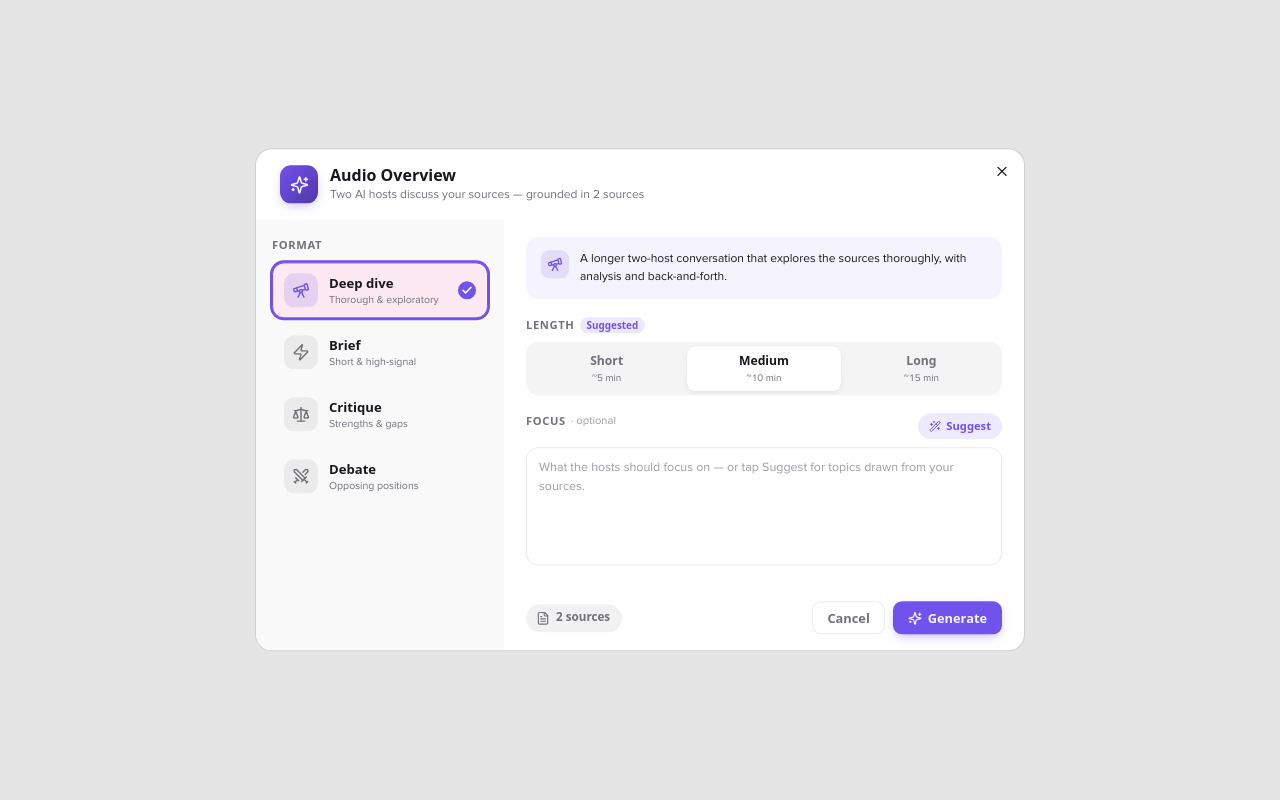
Scenario: AudioOverviewSetup — focus › surfaces an error when Suggest fails (never fails silently)
The width and height of the screenshot is (1280, 800).
Click the button "Suggest": (960, 426) [918,413,1002,439]
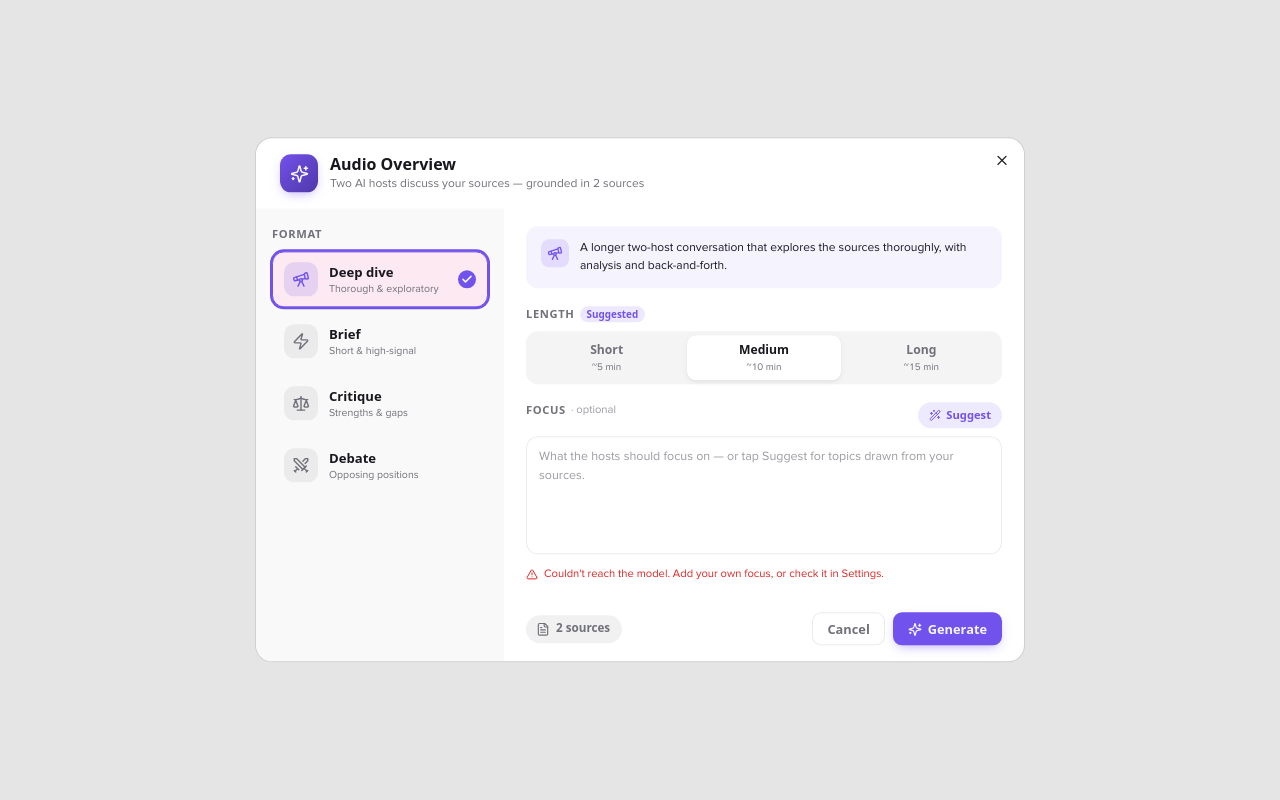
Expected: the message "Couldn't reach the model. Add your own focus, or check it in Settings." is shown, [526,568,884,581]
